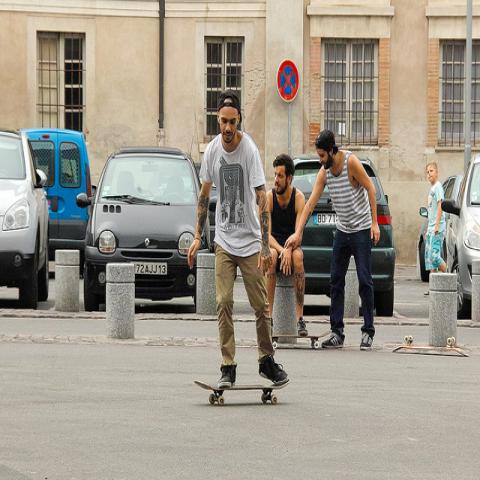car: (76, 147, 210, 312), (291, 156, 395, 314), (1, 130, 50, 304), (440, 151, 480, 321), (417, 174, 463, 283)
truck: (19, 122, 90, 240)
